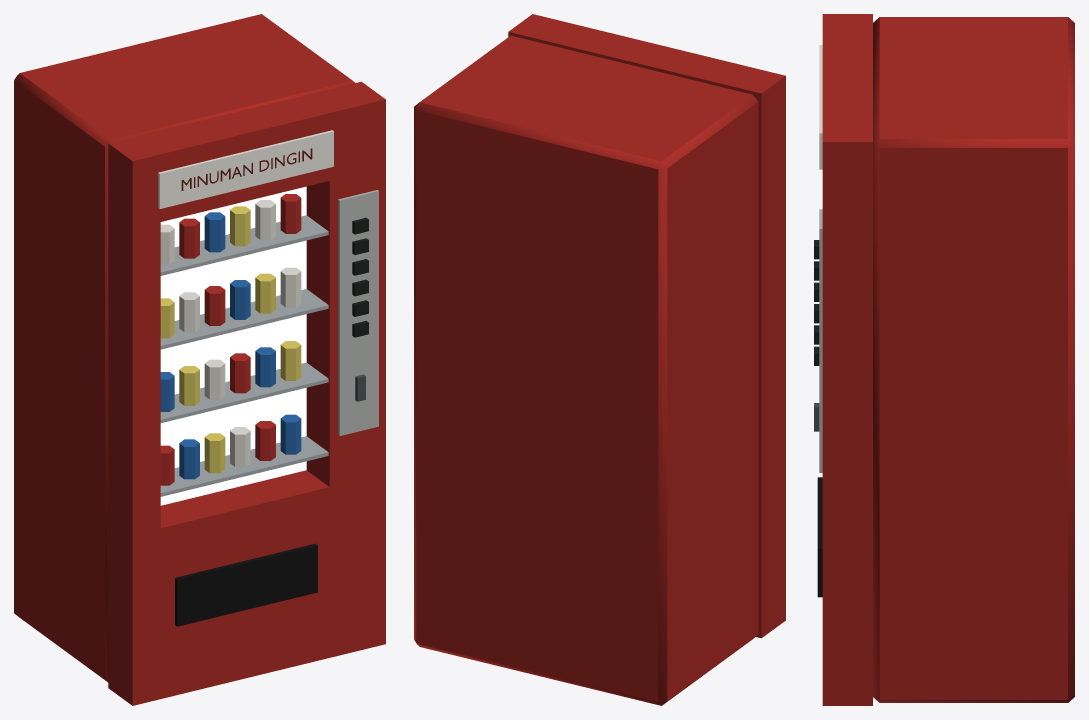
File: vending_machine.glb
The picture shows the model from 3 angles, left to right: view 1: azimuth 30°, elevation 25°; view 2: azimuth 150°, elevation 25°; view 3: azimuth 270°, elevation 25°; orthographic projection. The views are drawn at different scales.
Visible parts, largest first — view 1: VendBody, VendLight; view 2: VendBody; view 3: VendBody.
Boxes of the visible parts, bbox=[...] form: VendBody: bbox=[14, 14, 385, 705]; VendLight: bbox=[160, 186, 306, 505]; VendBody: bbox=[414, 14, 785, 705]; VendBody: bbox=[814, 14, 1074, 705].
Bounding box in the file's own units: 0.9 × 1.85 × 0.775.
